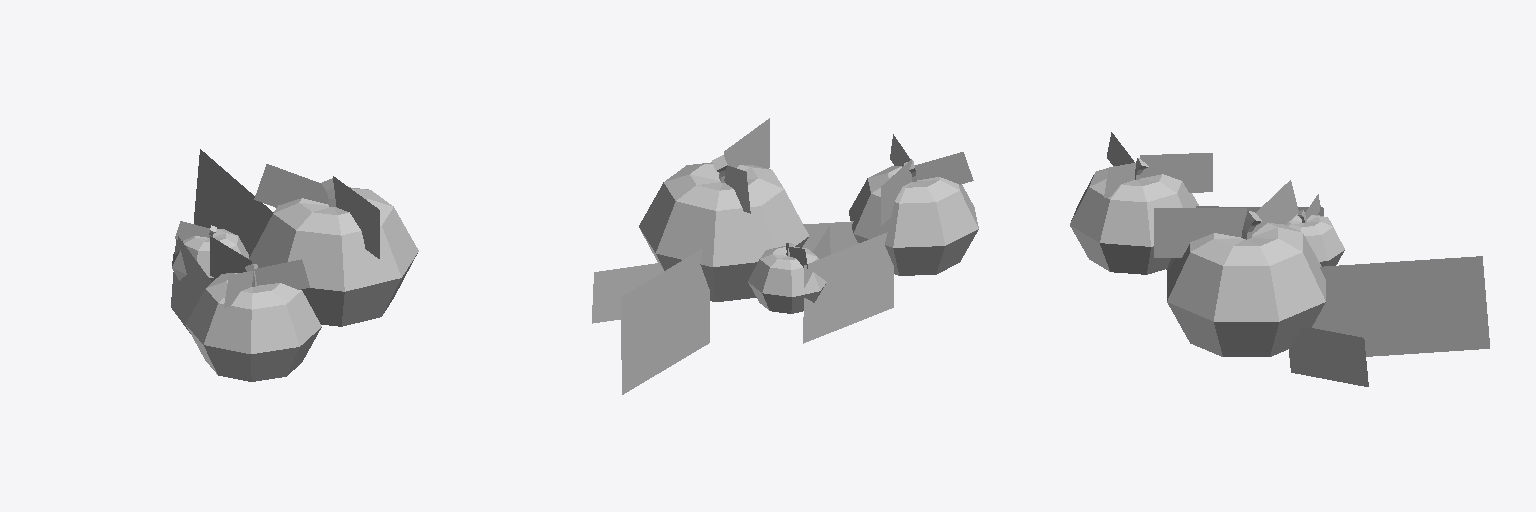
Rendered from pumpkinpatch01.obj.
The picture shows the model from 3 angles: view 1: azimuth 30°, elevation 25°; view 2: azimuth 150°, elevation 25°; view 3: azimuth 270°, elevation 25°; orthographic projection.
Parts seen in each view (by area): view 1: object 1; view 2: object 1; view 3: object 1.
Boxes of the visible parts, box(x1,y1,x2,y2) form: object 1: box(171, 149, 418, 381); object 1: box(592, 118, 978, 394); object 1: box(1070, 132, 1489, 386).
Size of the model in its own units: 3.19 by 1.95 by 4.41.